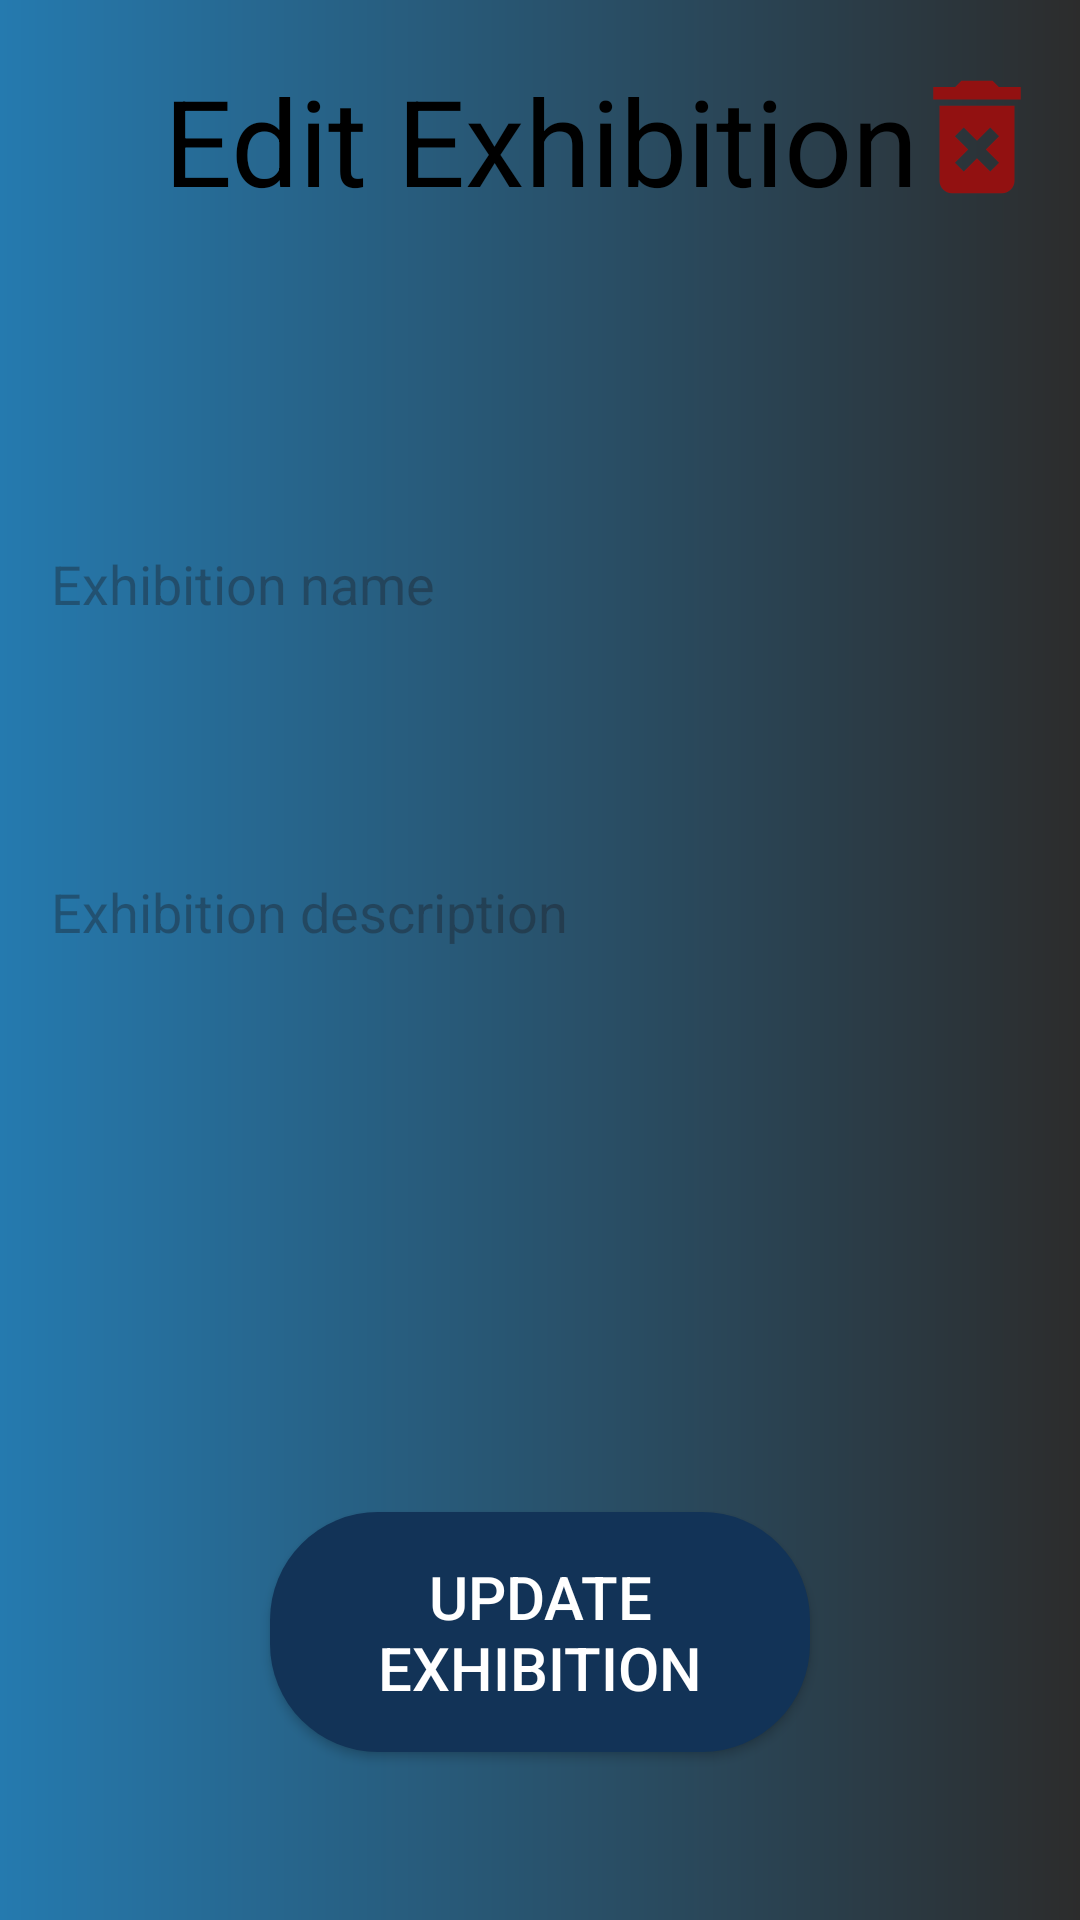

Locate icon controls on the screen. Image size 1080px x 1920px, boxes as (x1, y1, x2, y2).
bin: (933, 80, 1021, 194)
